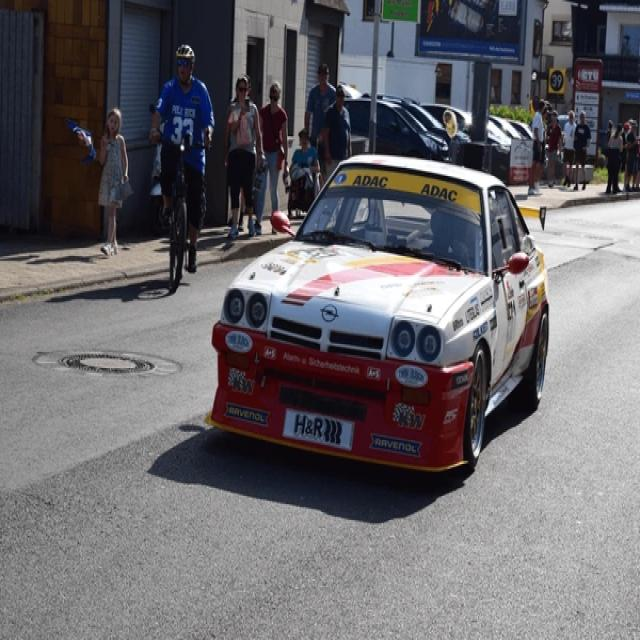opel: (317, 300, 342, 328)
